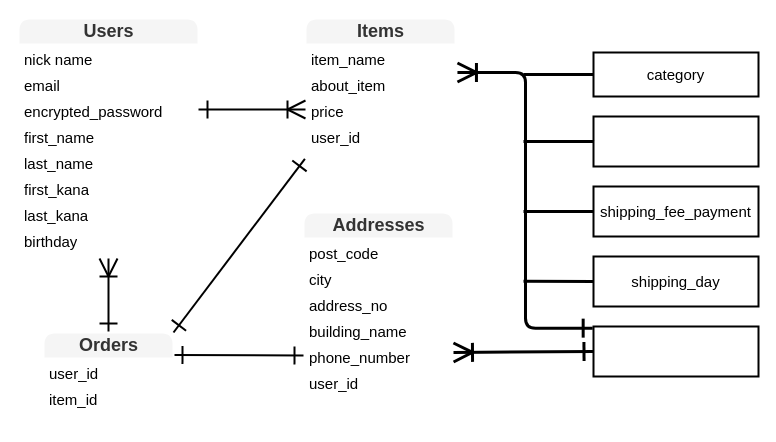
Image size: 776x442. Some labels were removed from this diagram. The shapes that lost their labels are listed below. From the top down, each one's centre as x and y in pixels, then its label:
the point at 675,141: condition
the point at 675,351: prefectures
